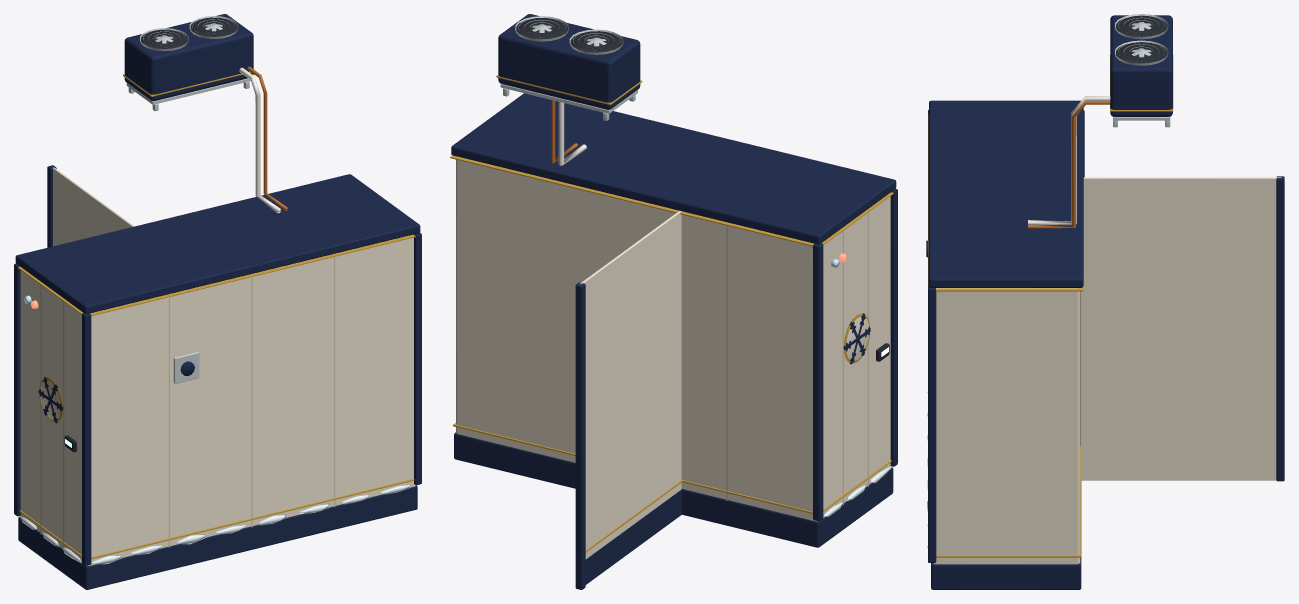
Rendered from coldroom_depotwing_T2.fbx.
3 renders of one model, left to right at view 1: azimuth 30°, elevation 25°; view 2: azimuth 150°, elevation 25°; view 3: azimuth 270°, elevation 25°, orthographic. The views are drawn at different scales.
Visible parts, largest first — view 1: Body; view 2: Body; view 3: Body.
Boxes of the visible parts, x1=… form: Body: x1=14, y1=14, x2=421, y2=589; Body: x1=450, y1=14, x2=897, y2=589; Body: x1=926, y1=14, x2=1284, y2=589.
Bounding box in the file's own units: 4.11 × 5.09 × 3.43.
